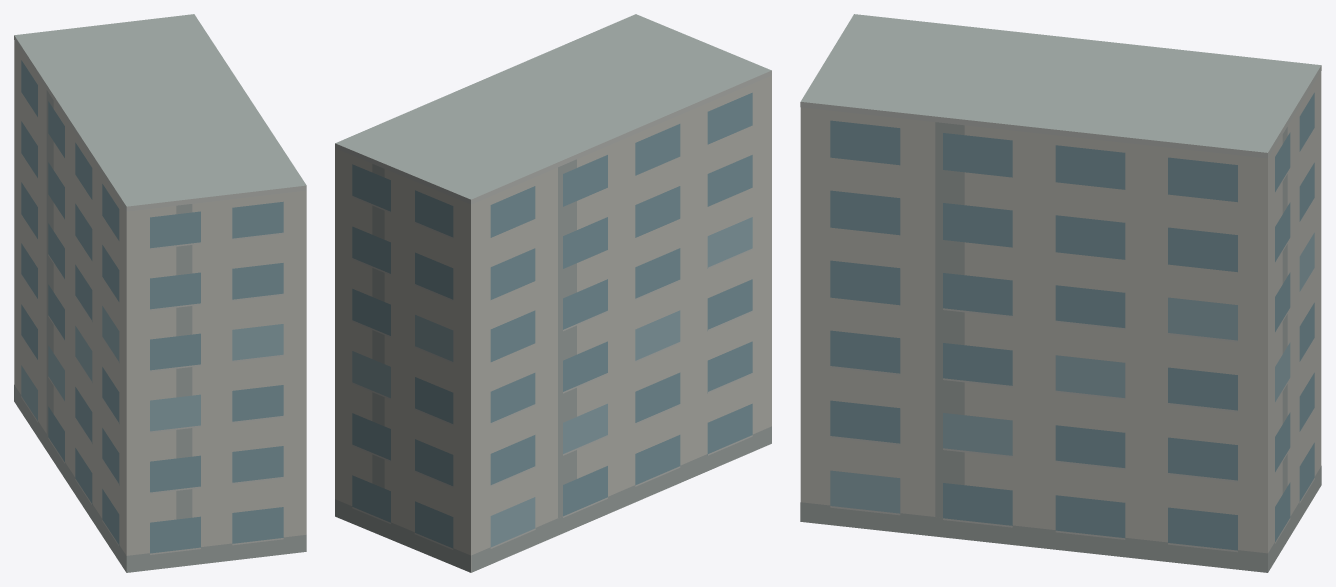
File: survey-upis-33033771.glb
3 renders of one model, left to right at view 1: azimuth 30°, elevation 25°; view 2: azimuth 150°, elevation 25°; view 3: azimuth 270°, elevation 25°, orthographic. The views are drawn at different scales.
Visible parts, largest first — view 1: survey-upis-33033771.tmp; view 2: survey-upis-33033771.tmp; view 3: survey-upis-33033771.tmp.
Boxes of the visible parts, x1,y1,x2,y2 form: survey-upis-33033771.tmp: (14,14,306,572); survey-upis-33033771.tmp: (335,14,771,572); survey-upis-33033771.tmp: (800,14,1321,572).
Size of the model in its own units: 12.99 by 18.3 by 20.58.
